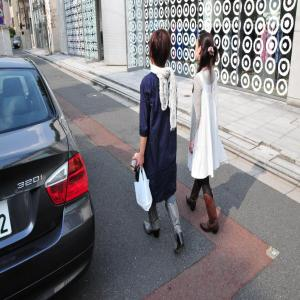Vehicle-registration-plate: (1, 200, 13, 240)
